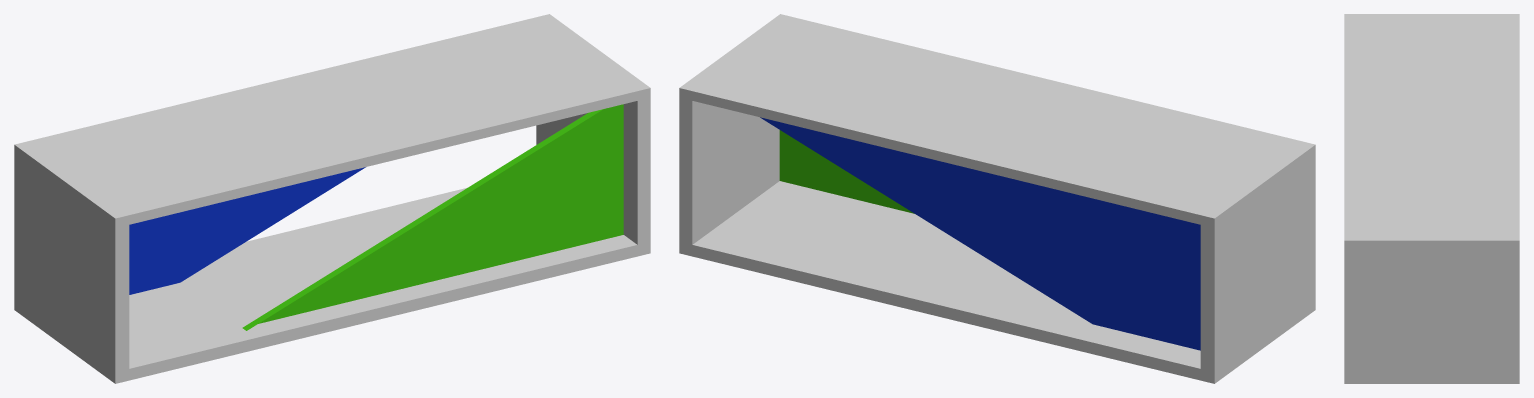
3 views of the same model, side by side, from view 1: azimuth 30°, elevation 25°; view 2: azimuth 150°, elevation 25°; view 3: azimuth 270°, elevation 25° (orthographic). The views are drawn at different scales.
Parts seen in each view (by area): view 1: Layer0_001; view 2: Layer0_001; view 3: Layer0_001.
Boxes of the visible parts, x1=… form: Layer0_001: x1=14, y1=14, x2=650, y2=383; Layer0_001: x1=679, y1=14, x2=1315, y2=383; Layer0_001: x1=1344, y1=14, x2=1519, y2=383.
Bounding box in the file's own units: 3150 × 930 × 1030.
